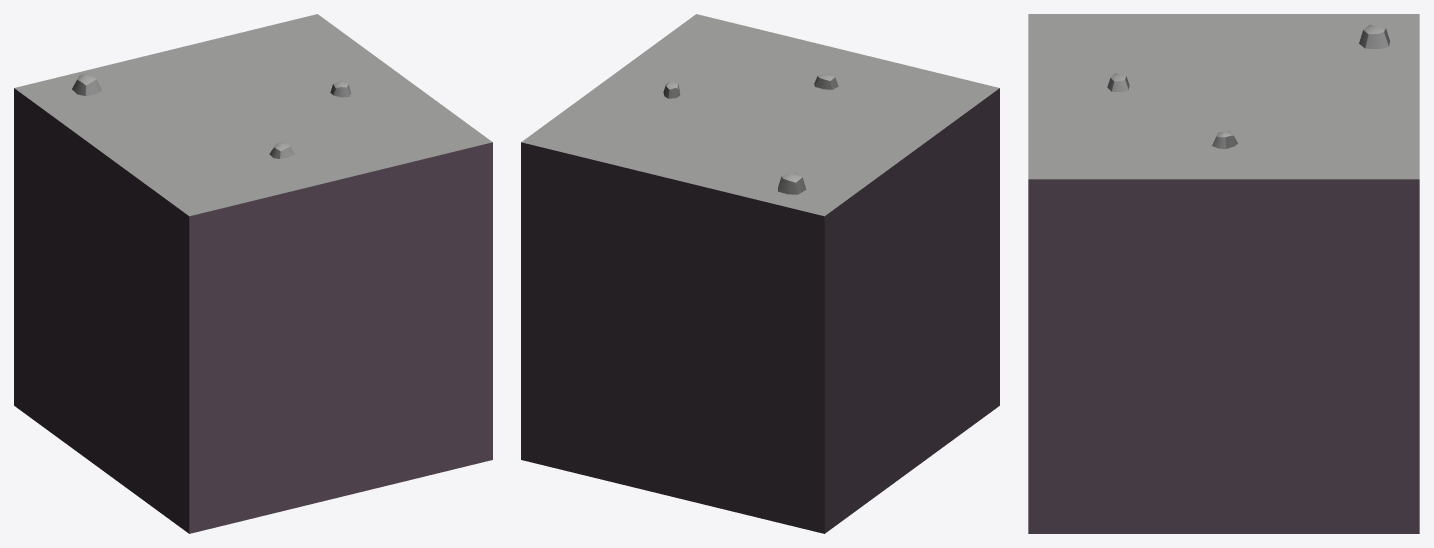
Rendered from tile_floor_plain03.FBX.
3 renders of one model, left to right at view 1: azimuth 30°, elevation 25°; view 2: azimuth 150°, elevation 25°; view 3: azimuth 270°, elevation 25°, orthographic. The views are drawn at different scales.
Visible parts, largest first — view 1: tile_floor_plain03; view 2: tile_floor_plain03; view 3: tile_floor_plain03.
Part boxes in pixels (x1,y1,x2,y2): tile_floor_plain03: (14,14,492,533); tile_floor_plain03: (521,14,999,533); tile_floor_plain03: (1028,14,1419,533).
Size of the model in its own units: 39.37 by 41.25 by 39.37.
